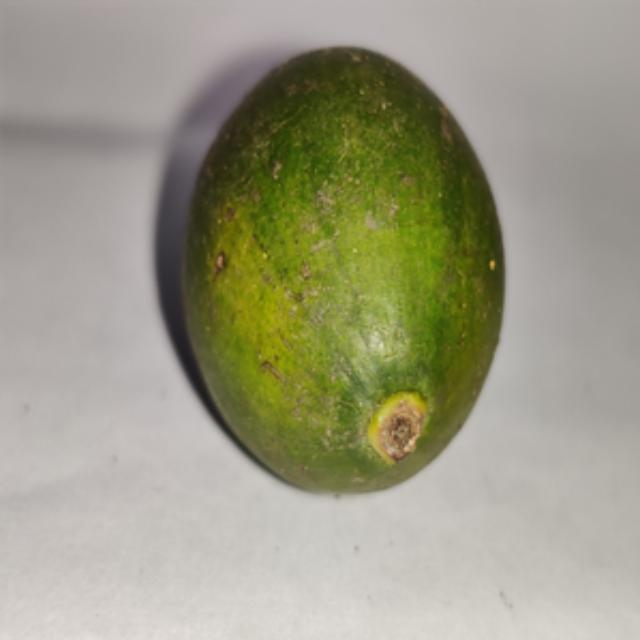good: (182, 47, 501, 490)
